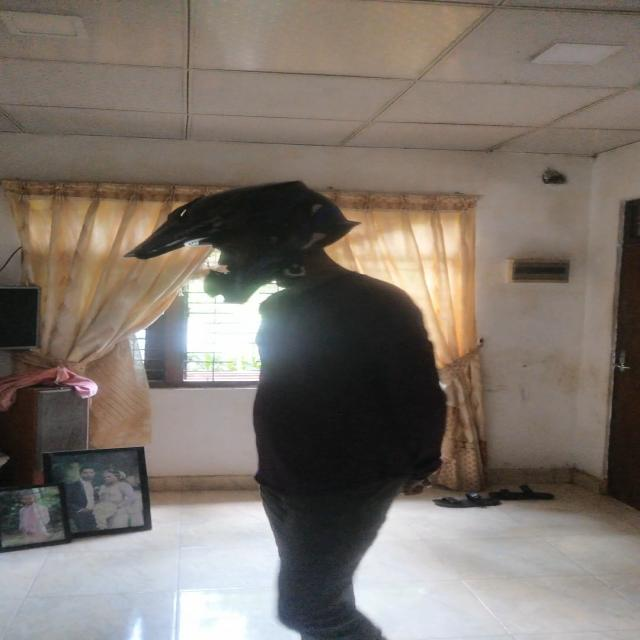Helmet_Wearer: (138, 182, 358, 292)
Person: (117, 170, 455, 640)
